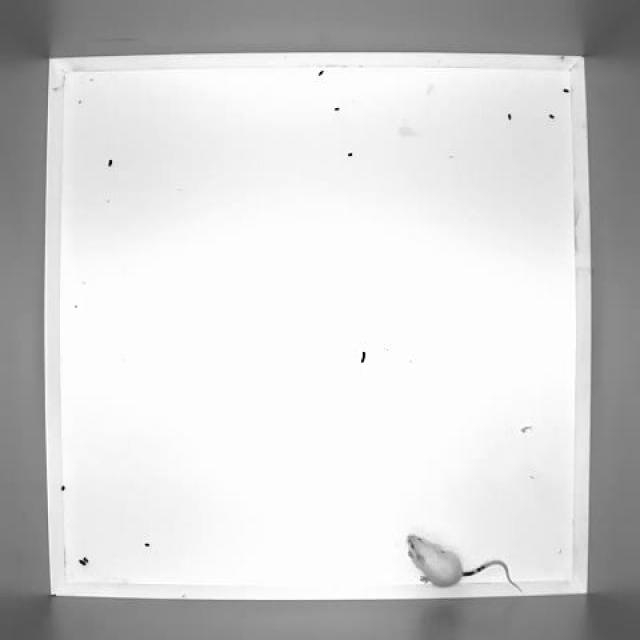rat: (402, 528, 522, 595)
